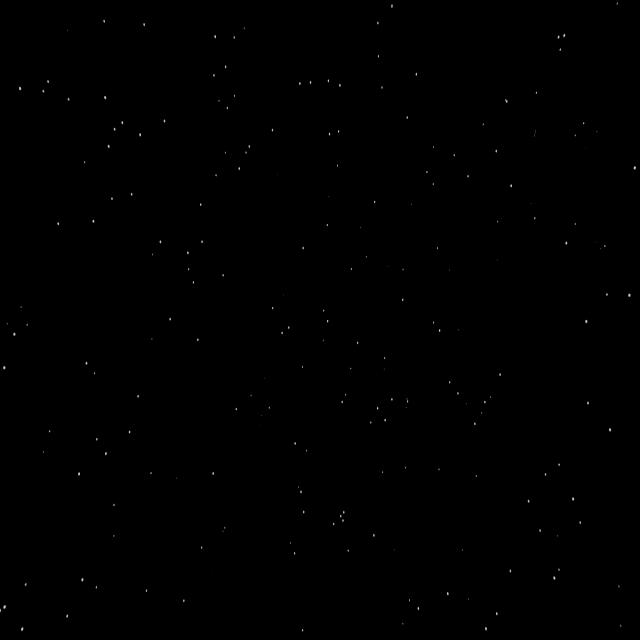medium_debris: (468, 109, 596, 213)
